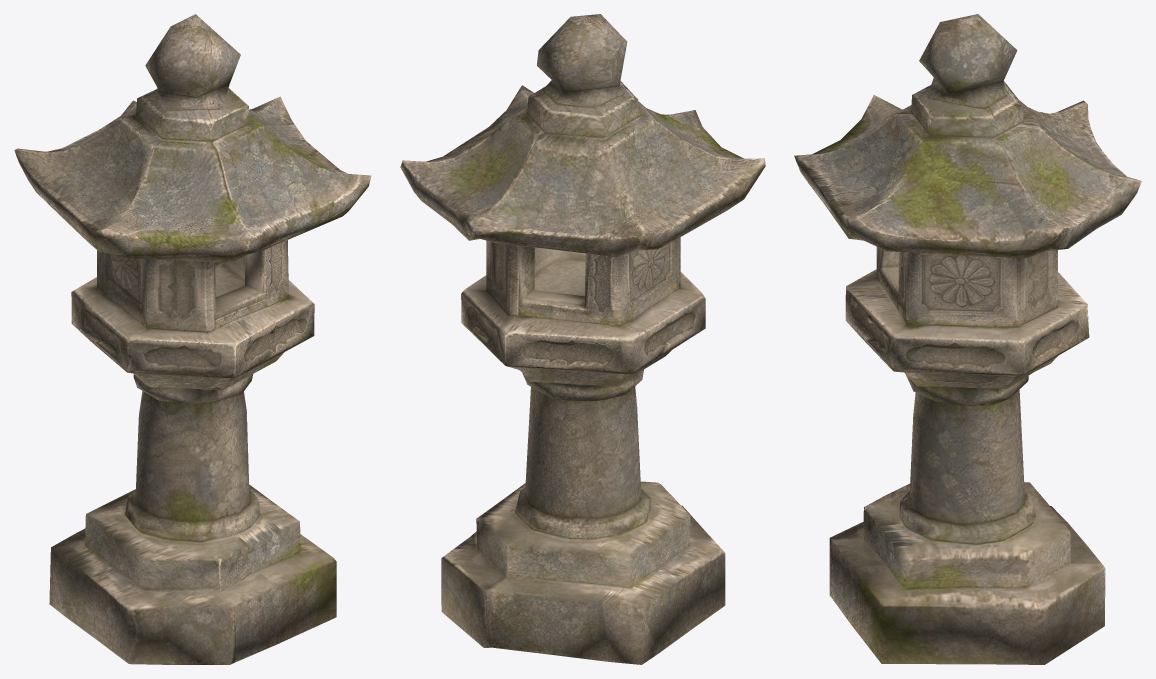
The model's file is stone_lantern.glb.
3 renders of one model, left to right at view 1: azimuth 30°, elevation 25°; view 2: azimuth 150°, elevation 25°; view 3: azimuth 270°, elevation 25°, orthographic.
Parts seen in each view (by area): view 1: stone_lantern; view 2: stone_lantern; view 3: stone_lantern.
Boxes of the visible parts, box(x1,y1,x2,y2) form: stone_lantern: box(14, 14, 371, 664); stone_lantern: box(400, 14, 765, 664); stone_lantern: box(794, 14, 1141, 664).
Size of the model in its own units: 0.7667 by 1.6 by 0.8431.
1 material, 1 textured.
